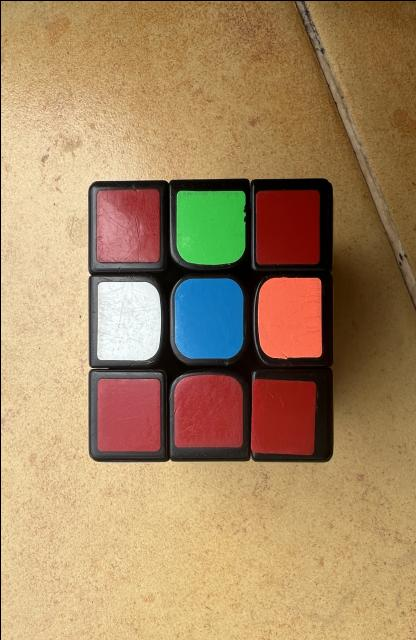Blue: (173, 278, 243, 358)
Green: (176, 190, 245, 264)
Orange: (257, 276, 321, 358)
Red: (250, 378, 315, 455), (173, 374, 242, 446), (255, 189, 318, 264), (95, 188, 159, 261), (96, 378, 159, 451)
White: (96, 281, 160, 360)
